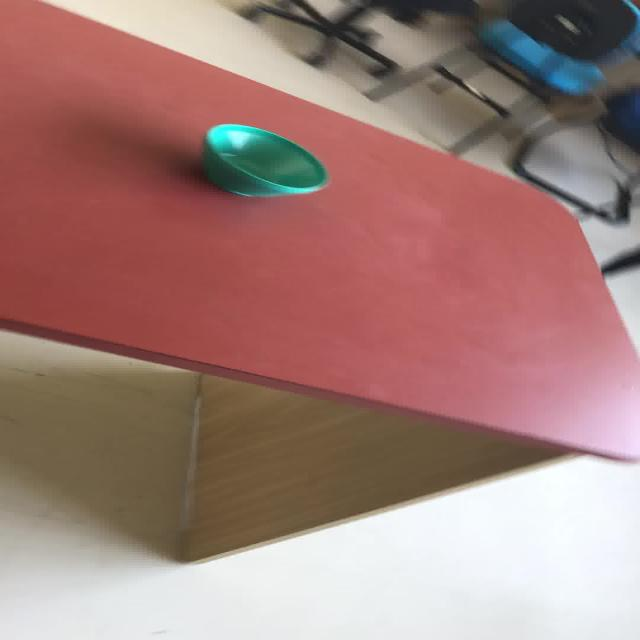bowl: (201, 122, 329, 197)
